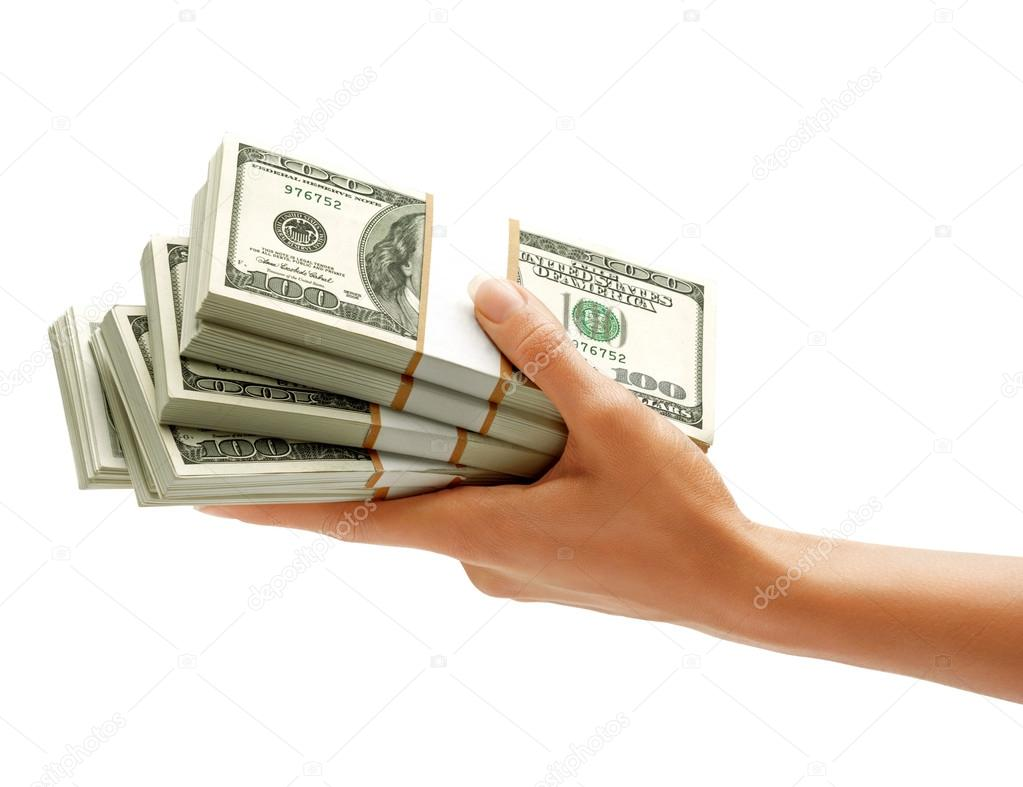billete: (41, 127, 725, 515)
